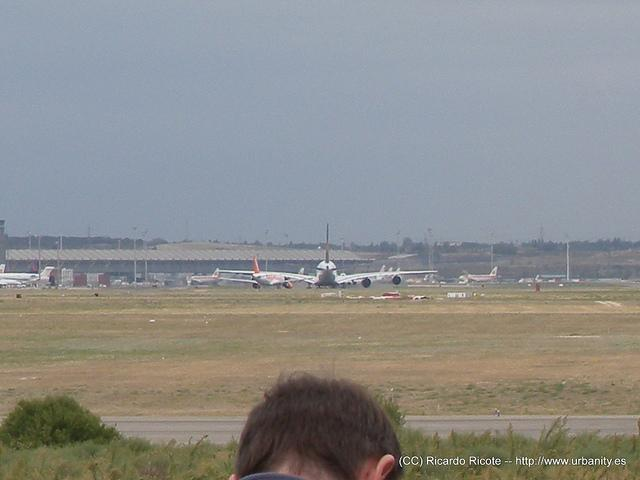airplane: (220, 222, 439, 291), (228, 257, 303, 289), (458, 265, 500, 284), (187, 266, 222, 286)
